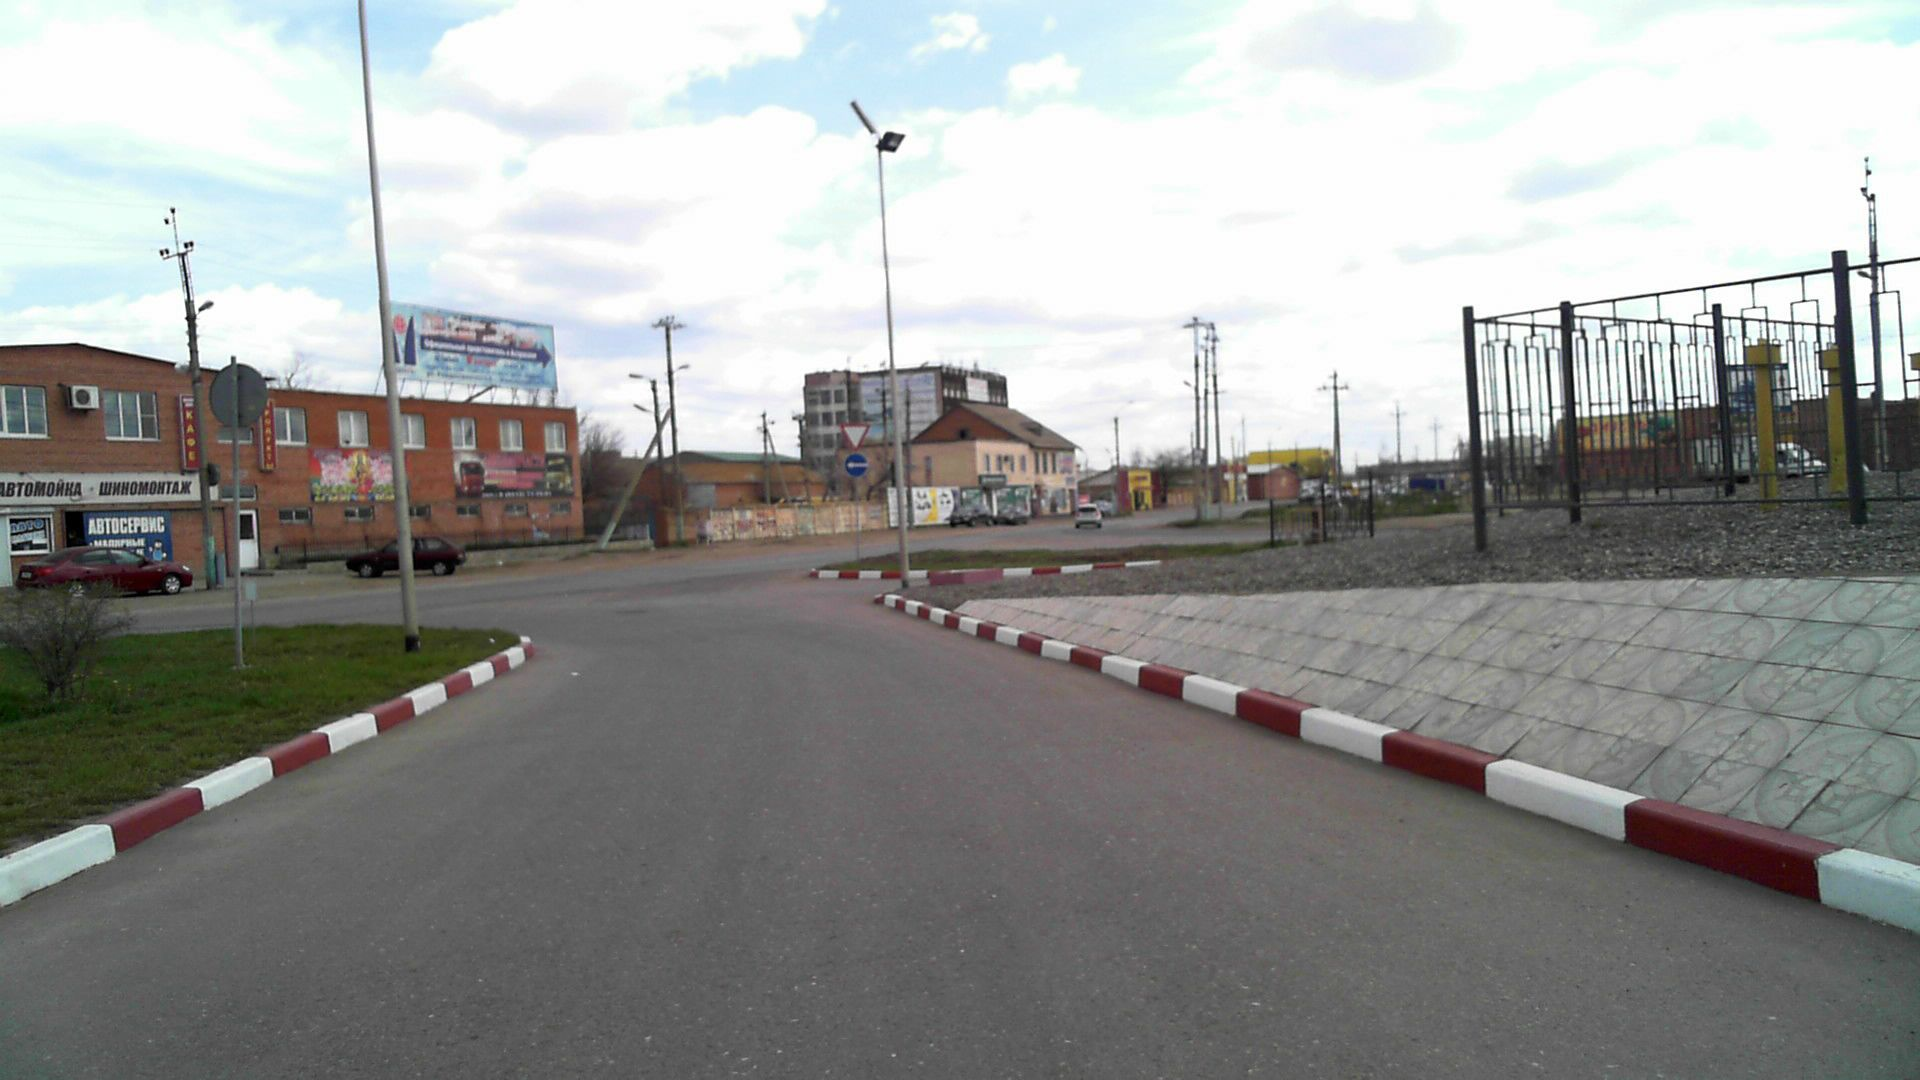Turn Left: (844, 454, 869, 476)
